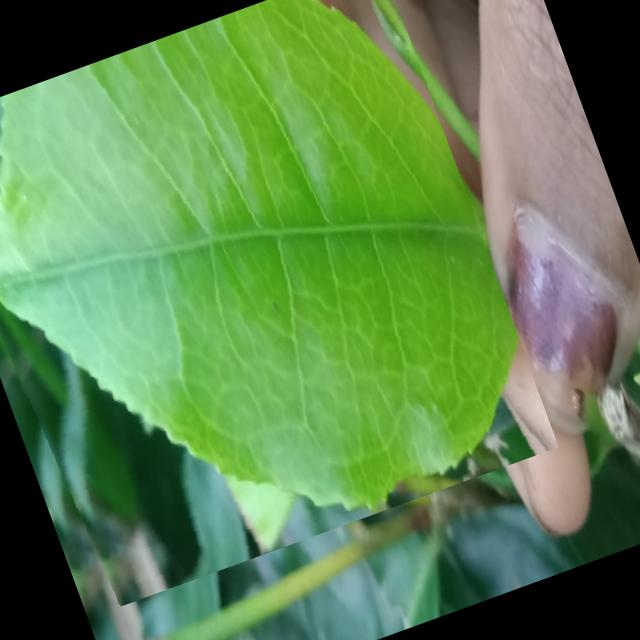Category B(2-4 days): (0, 0, 558, 617)
